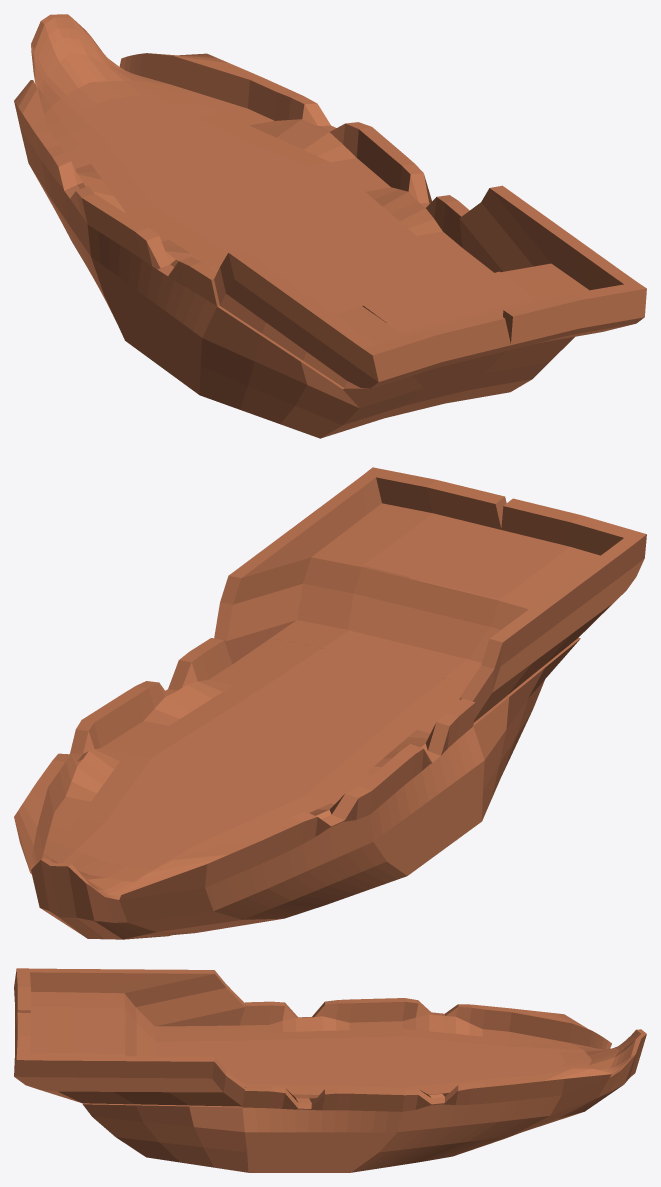
Rendered from ship.fbx.
The picture shows the model from 3 angles, top to bottom: view 1: azimuth 30°, elevation 25°; view 2: azimuth 150°, elevation 25°; view 3: azimuth 270°, elevation 25°; orthographic projection. The views are drawn at different scales.
Parts seen in each view (by area): view 1: Cube; view 2: Cube; view 3: Cube.
Part boxes in pixels (x1,y1,x2,y2): Cube: [14, 14, 646, 438]; Cube: [14, 467, 646, 939]; Cube: [14, 968, 646, 1172].
Bounding box in the file's own units: 3325 × 1820 × 9146.
